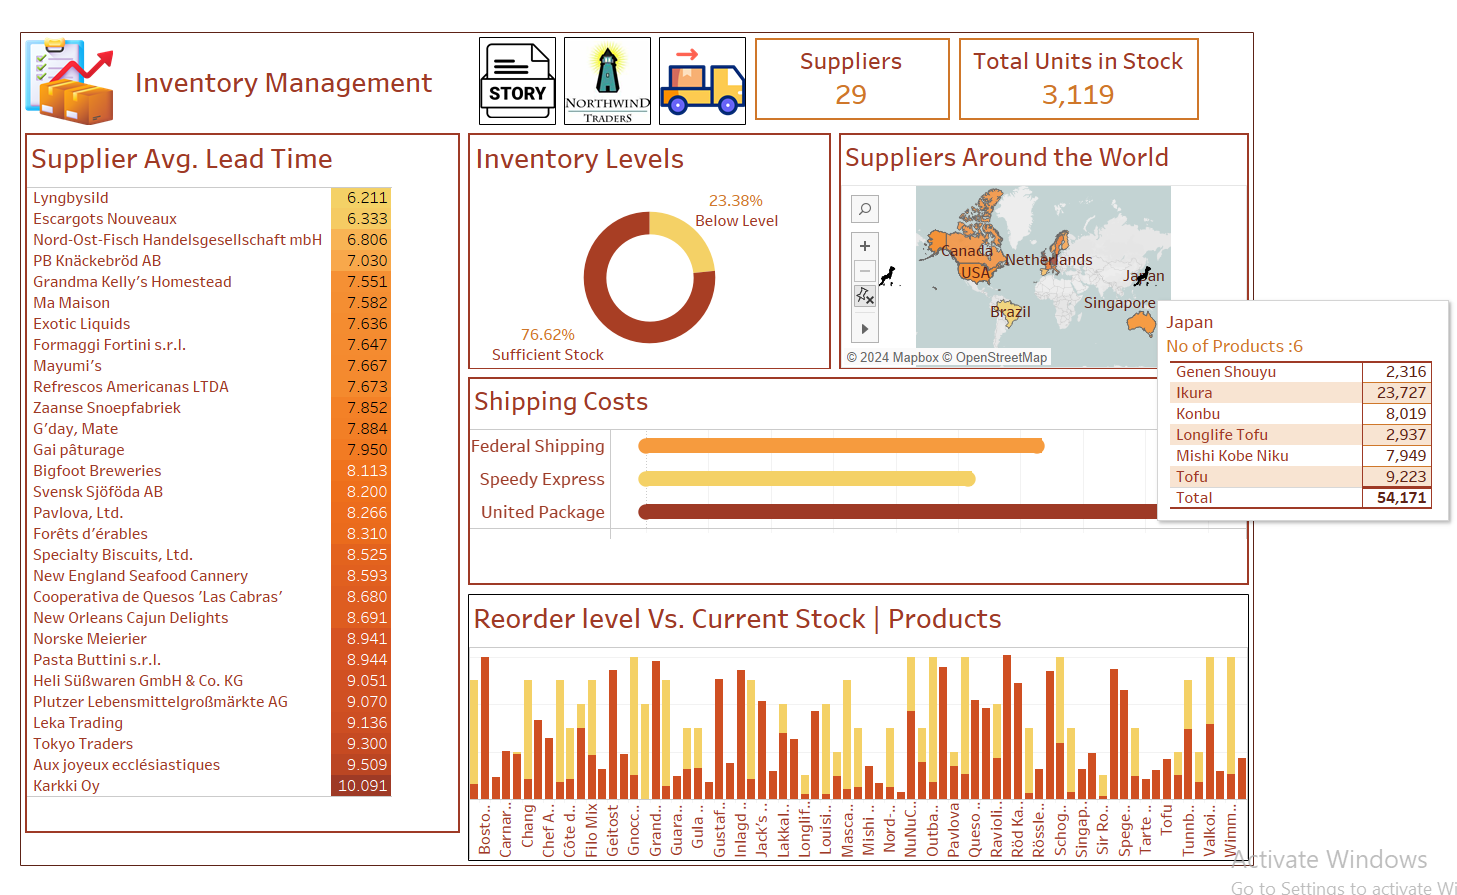

The dashboard page shown, as its layout file describes it:
{"tool":"tableau","page":{"name":"Inventory Management","canvas":[1250,850],"ordinal":2},"visuals":[{"type":"image","param":"Image/material-management.png","box":[9,9,106,95.8]},{"type":"text","box":[115,9,348,95.8]},{"type":"dashboard-object","box":[463,9,85,95.8]},{"type":"dashboard-object","box":[548,9,95,95.8]},{"type":"dashboard-object","box":[643,9,95,95.8]},{"type":"worksheet","title":"Count Suppliers","mark":"Automatic","box":[738,9,204,95.8]},{"type":"worksheet","title":"Total Units in Stock","mark":"Automatic","box":[942,9,249,95.8]},{"type":"worksheet","title":"Supplier Avg. Lead Time","mark":"Square","rows":["CompanyName (Supplier_Dim)"],"box":[9,104.8,442.8,708]},{"type":"worksheet","title":"Inventory Levels","mark":"Pie","rows":["Calculation_1881660278430146569","Calculation_1881660278430199819"],"box":[451.8,104.8,370.9,244.6]},{"type":"worksheet","title":"Suppliers Around the World","mark":"Multipolygon","box":[822.6,104.8,418.4,244.6]},{"type":"worksheet","title":"Shipping Costs","mark":"Automatic","rows":["CompanyName (Shippers_Dim)"],"cols":["Freight"],"box":[451.8,349.4,789.2,216.2]},{"type":"worksheet","title":"Reorder level Vs. Current Stock","mark":"Bar","rows":["ReorderLevel","UnitsInStock"],"cols":["ProductName"],"box":[451.8,565.6,789.2,275.3]}]}

Visuals, with their boxes on the page's 1250x850 design canvas (x1, y1, x2, y2). These are canvas units, not pixel positions in the 1457x895 screenshot, which may show the page scaled, cropped or inside an application window:
image: <region>9, 9, 115, 105</region>
text: <region>115, 9, 463, 105</region>
dashboard-object: <region>463, 9, 548, 105</region>
dashboard-object: <region>548, 9, 643, 105</region>
dashboard-object: <region>643, 9, 738, 105</region>
"Count Suppliers" worksheet: <region>738, 9, 942, 105</region>
"Total Units in Stock" worksheet: <region>942, 9, 1191, 105</region>
"Supplier Avg. Lead Time" worksheet (Square marks): <region>9, 105, 452, 813</region>
"Inventory Levels" worksheet (Pie marks): <region>452, 105, 823, 349</region>
"Suppliers Around the World" worksheet (Multipolygon marks): <region>823, 105, 1241, 349</region>
"Shipping Costs" worksheet: <region>452, 349, 1241, 566</region>
"Reorder level Vs. Current Stock" worksheet (Bar marks): <region>452, 566, 1241, 841</region>
